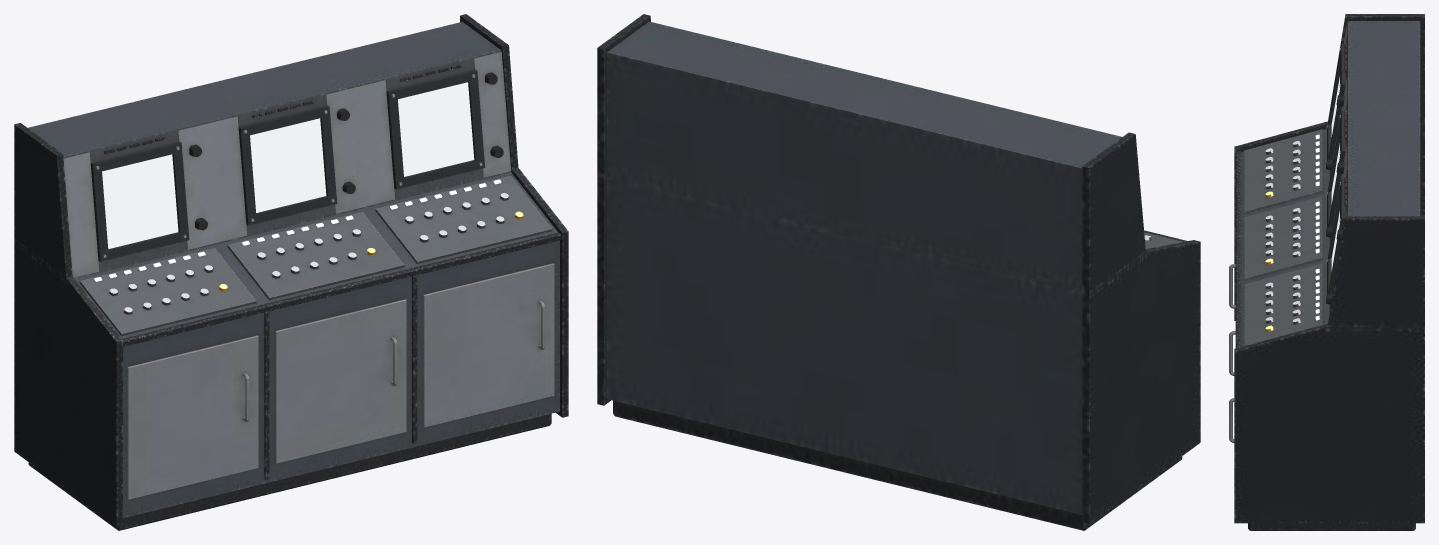
The model's file is console.glb.
The picture shows the model from 3 angles, left to right: view 1: azimuth 30°, elevation 25°; view 2: azimuth 150°, elevation 25°; view 3: azimuth 270°, elevation 25°; orthographic projection. The views are drawn at different scales.
Parts seen in each view (by area): view 1: GEO_S3_ControlConsoleBank_001, GEO_S3_ControlConsoleBank_Controls_001, GEO_S3_ConsoleScreen_002, GEO_S3_ConsoleScreen_001, GEO_S3_ConsoleScreen_003, GEO_S3_ControlConsoleBank_Buttons_001; view 2: GEO_S3_ControlConsoleBank_001; view 3: GEO_S3_ControlConsoleBank_001, GEO_S3_ControlConsoleBank_Controls_001, GEO_S3_ControlConsoleBank_Buttons_001.
Part boxes in pixels (<box>): GEO_S3_ControlConsoleBank_001: <box>14,14,568,530</box>; GEO_S3_ControlConsoleBank_Controls_001: <box>63,52,561,346</box>; GEO_S3_ConsoleScreen_002: <box>250,118,326,212</box>; GEO_S3_ConsoleScreen_001: <box>102,154,178,248</box>; GEO_S3_ConsoleScreen_003: <box>398,82,474,176</box>; GEO_S3_ControlConsoleBank_Buttons_001: <box>94,72,523,314</box>; GEO_S3_ControlConsoleBank_001: <box>597,14,1200,530</box>; GEO_S3_ControlConsoleBank_001: <box>1229,14,1424,530</box>; GEO_S3_ControlConsoleBank_Controls_001: <box>1235,23,1347,348</box>; GEO_S3_ControlConsoleBank_Buttons_001: <box>1265,95,1344,331</box>.
Bounding box in the file's own units: 2.14 × 1.54 × 0.8637.
Materials: 4 (4 with a texture image).
